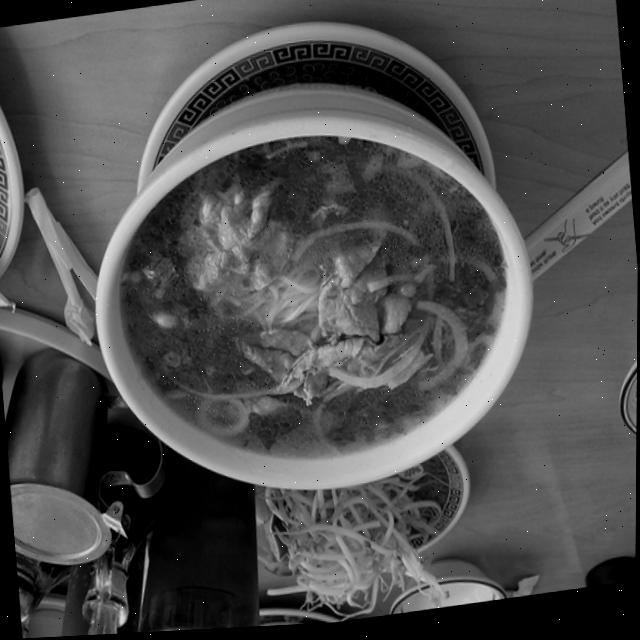面条主食: (50, 6, 562, 553)
